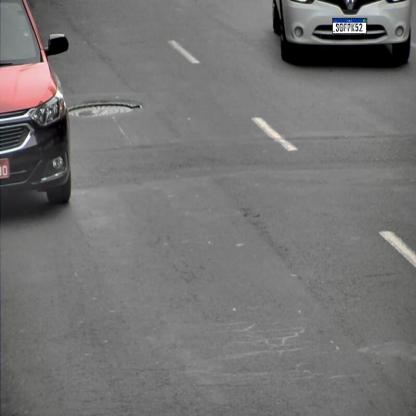PlacaM: (332, 18, 367, 34)
